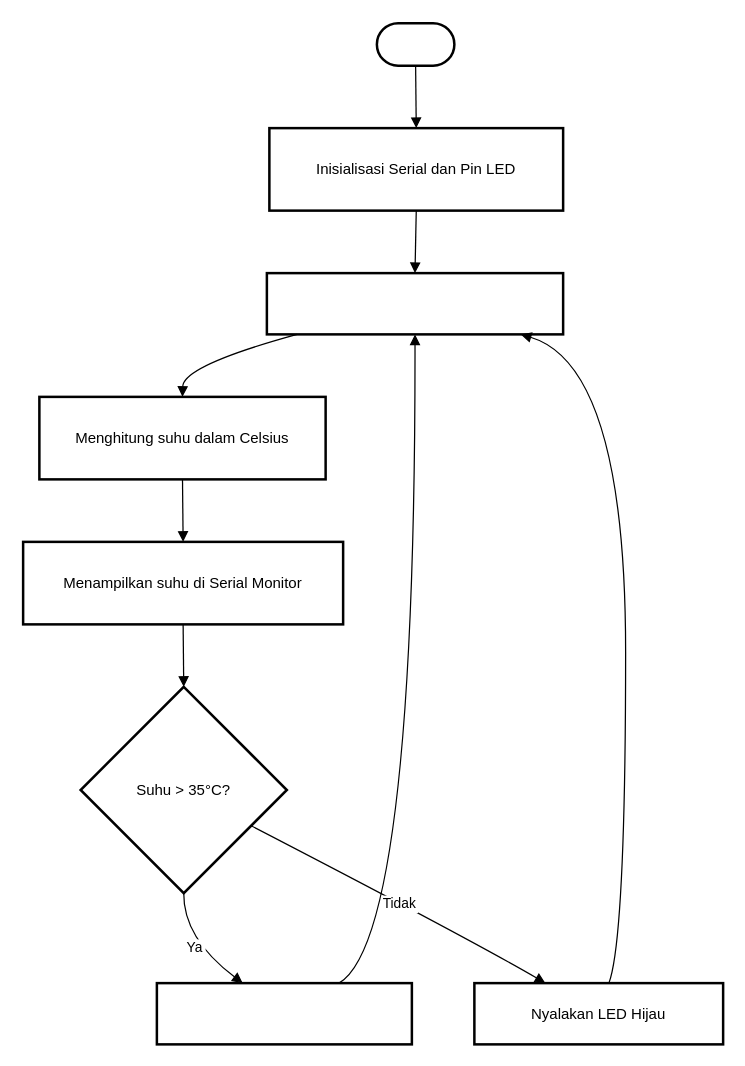
This 745x1066 diagram has some shape labels left out. The shapes that lost their labels are listed below. From the top down, each one's box as (x1, y1, x2, y2) in pixels, then its label:
(375, 21, 455, 66): Mulai
(265, 271, 564, 335): Membaca nilai dari LM35
(155, 981, 412, 1045): Nyalakan LED Merah
